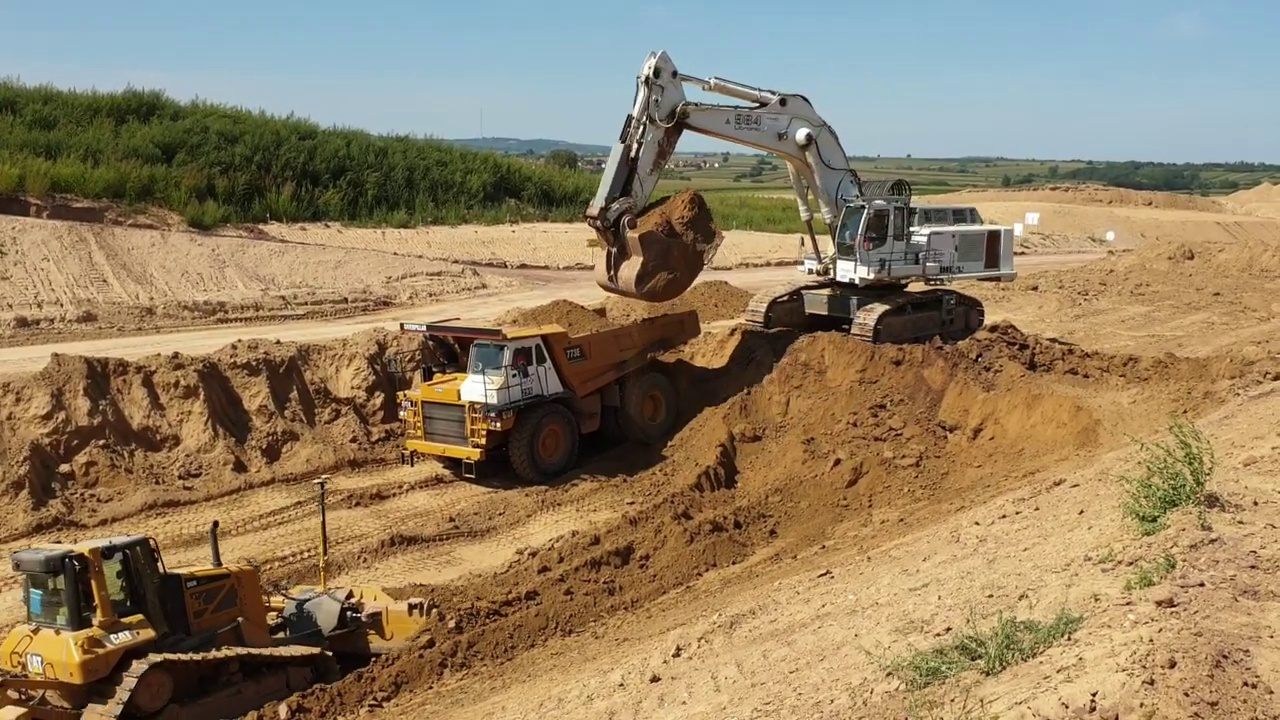bulldozer: (2, 472, 449, 720)
excavator: (581, 45, 1023, 351)
truck: (395, 307, 706, 489)
